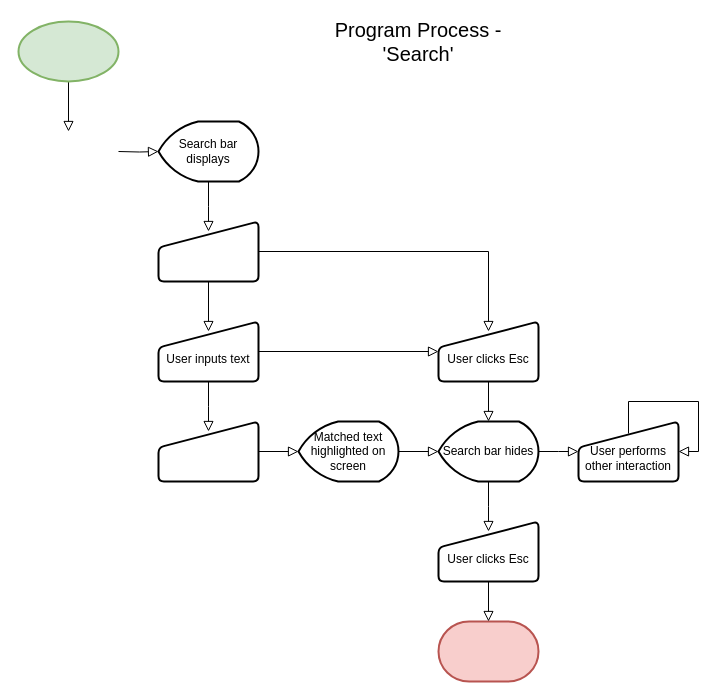
This 726x699 diagram has some shape labels left out. The centre of each missing label's shape, as x and y in pixels:
"Interaction Ends" goes at [488,651].
"Interaction starts" goes at [68,51].
"User clicks Enter" goes at [208,451].
"User clicks search bar" goes at [208,251].
